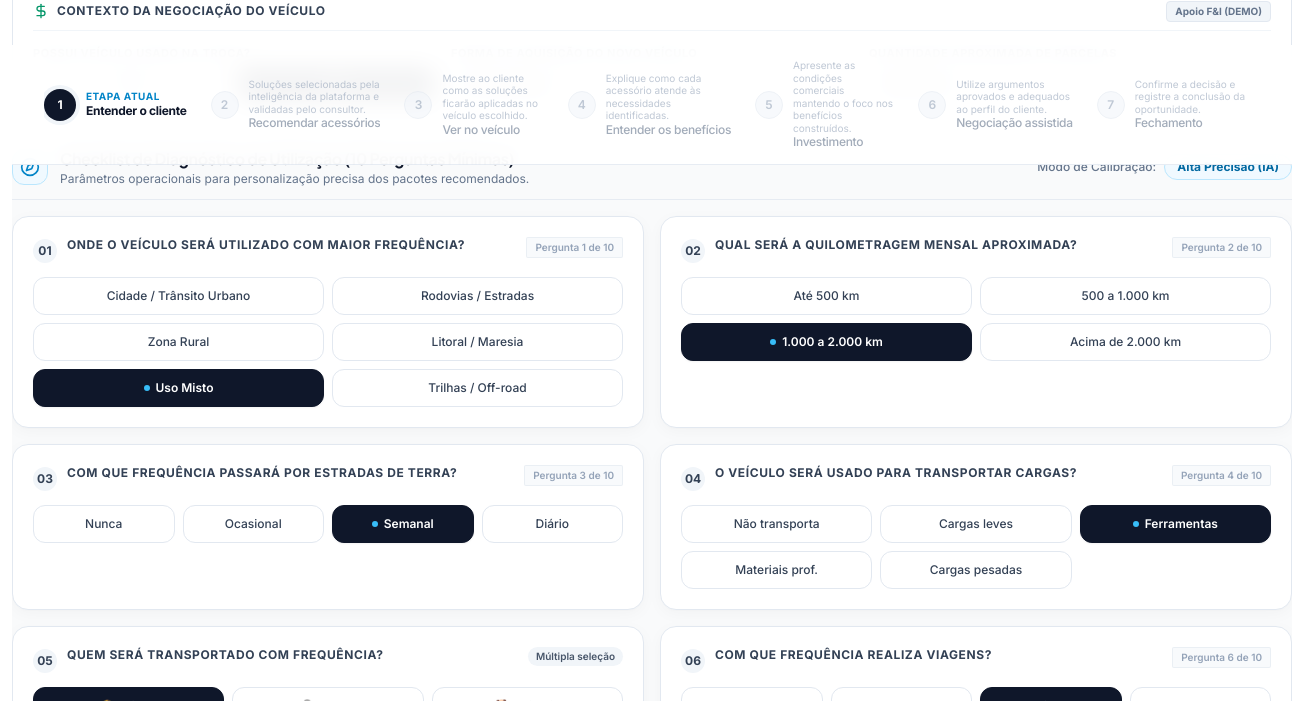
Test: Sales Journey 7-Step Consultative Flow › preserves diagnosis answers when navigating back and forth between steps
(page scrolled)
# Passo 1: Selecionar uso rural
Click the button "Zona Rural" at (178, 342), box [33,323,324,361]
(page scrolled)
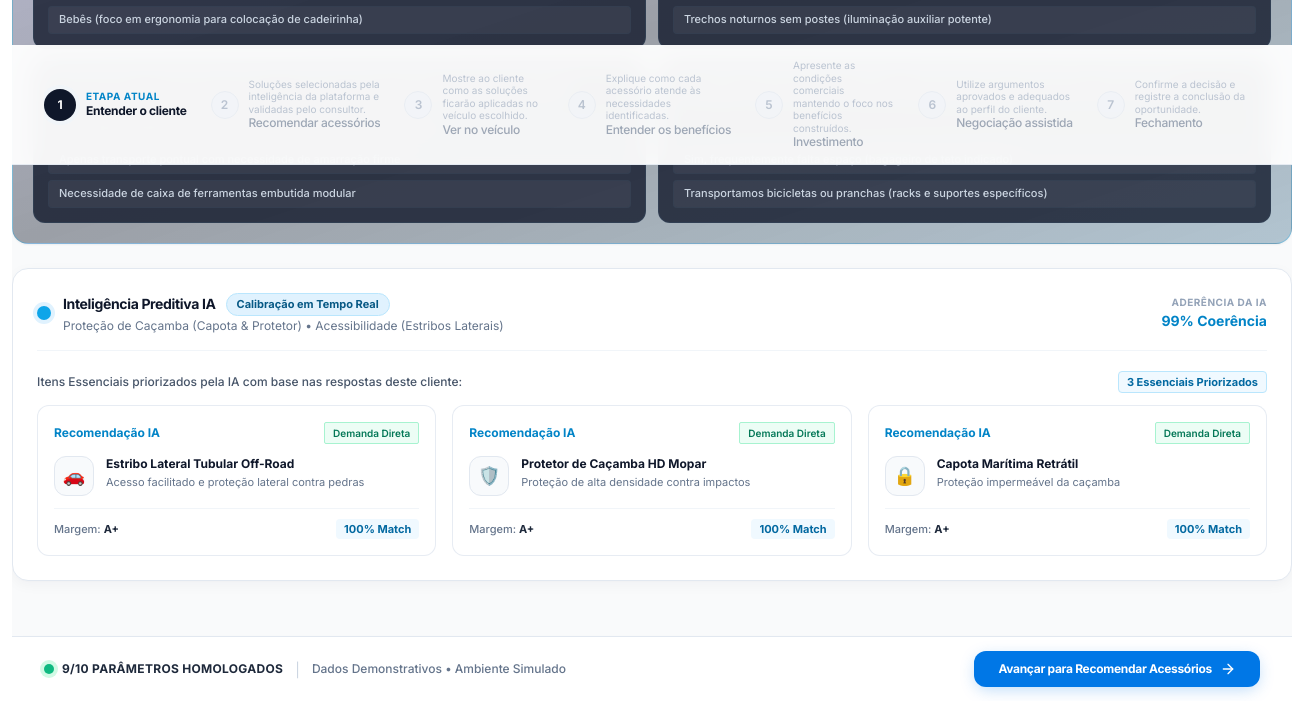
# Avançar para Etapa 2
Click the button "Avançar para Recomendar Acessórios" at (1117, 669), box [974,651,1260,687]
(page scrolled)
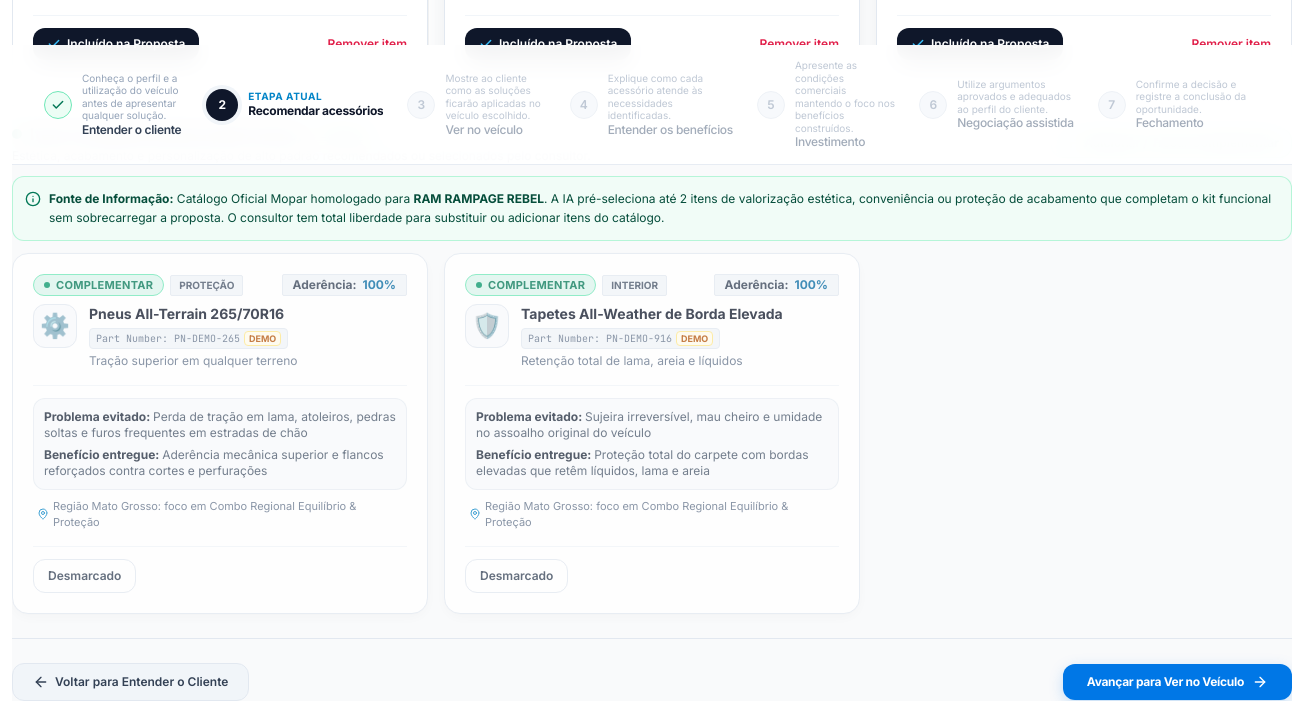
# Voltar para Etapa 1
Click the button "Voltar para Entender o Cliente" at (131, 682), box [12,663,249,700]
(page scrolled)
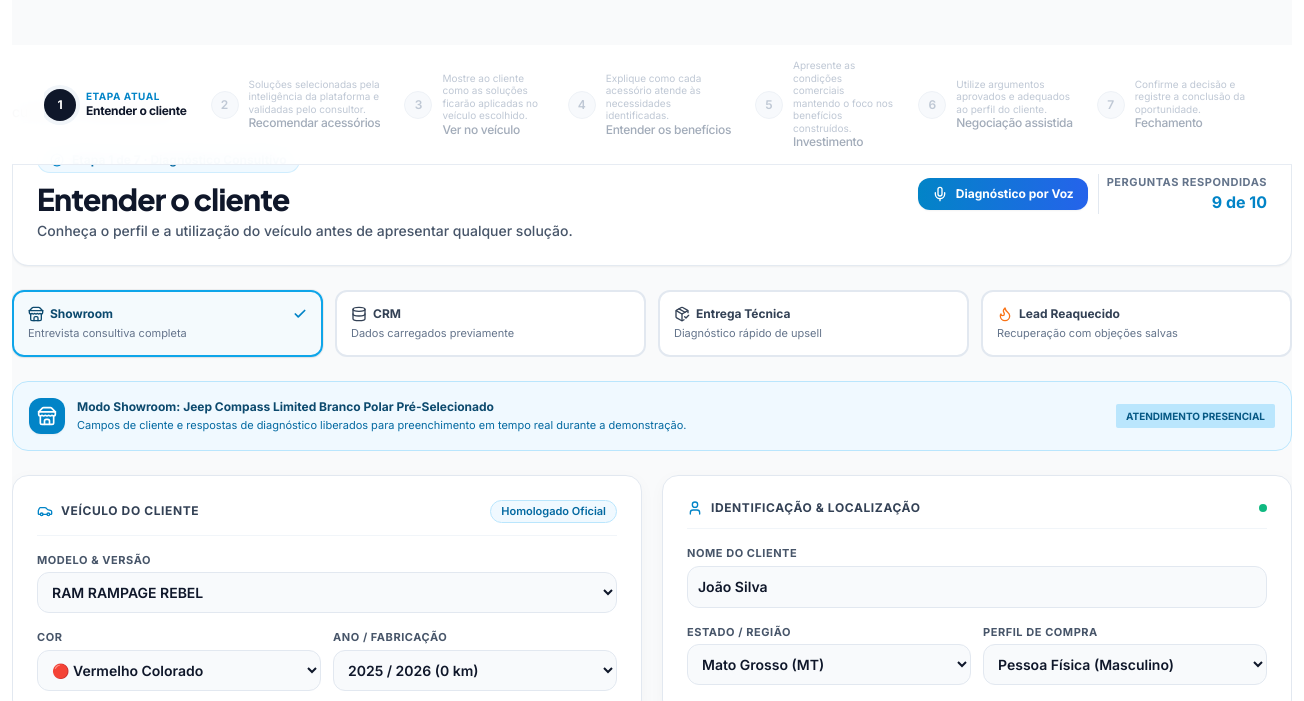
Expected: the heading "Entender o cliente" is shown, [37,180,290,218]
